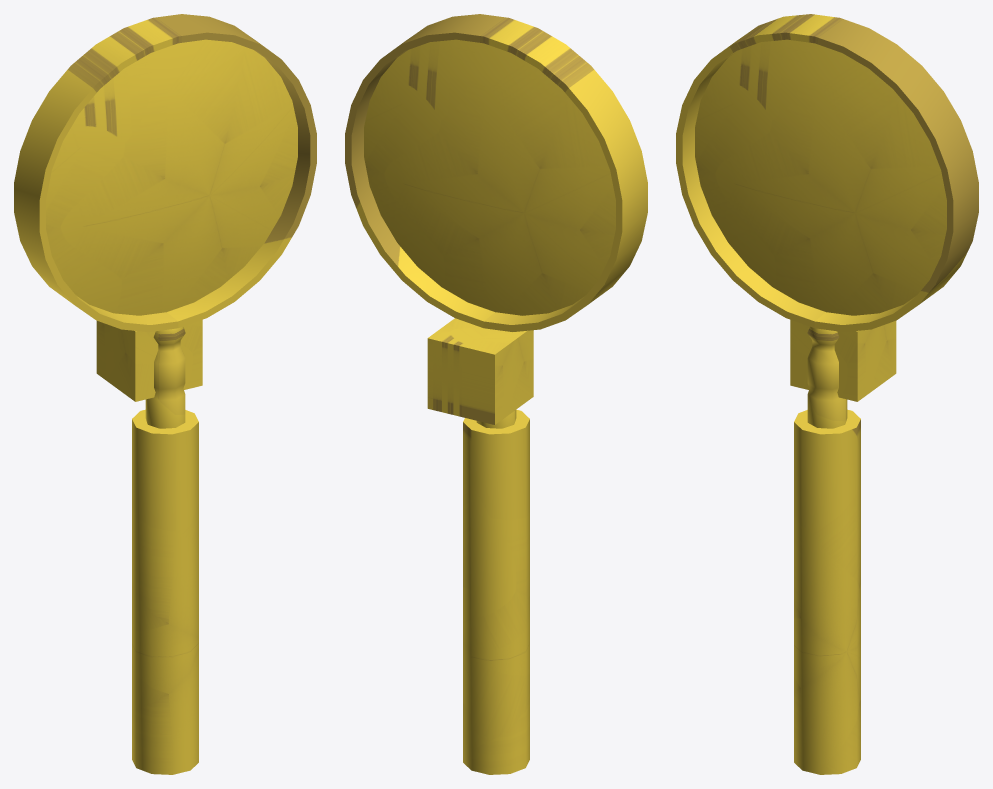
Rendered from magnifying_glass1.obj.
3 renders of one model, left to right at view 1: azimuth 30°, elevation 25°; view 2: azimuth 150°, elevation 25°; view 3: azimuth 330°, elevation 25°, orthographic.
Visible parts, largest first — view 1: Object_5, Object_3, Object_4, Object_6; view 2: Object_5, Object_4, Object_3, Object_6; view 3: Object_5, Object_3, Object_4, Object_6.
Part boxes in pixels (bbox=[...]): Object_5: bbox=[46, 39, 297, 315]; Object_3: bbox=[14, 14, 316, 428]; Object_4: bbox=[132, 409, 198, 774]; Object_6: bbox=[96, 320, 202, 401]; Object_5: bbox=[364, 39, 615, 315]; Object_4: bbox=[463, 409, 529, 774]; Object_3: bbox=[345, 14, 647, 428]; Object_6: bbox=[427, 318, 533, 424]; Object_5: bbox=[695, 39, 946, 315]; Object_3: bbox=[676, 14, 978, 428]; Object_4: bbox=[794, 409, 860, 774]; Object_6: bbox=[790, 320, 896, 401].
Size of the model in its own units: 17.8 by 45 by 5.7.
Materials: 4 (4 with a texture image).
